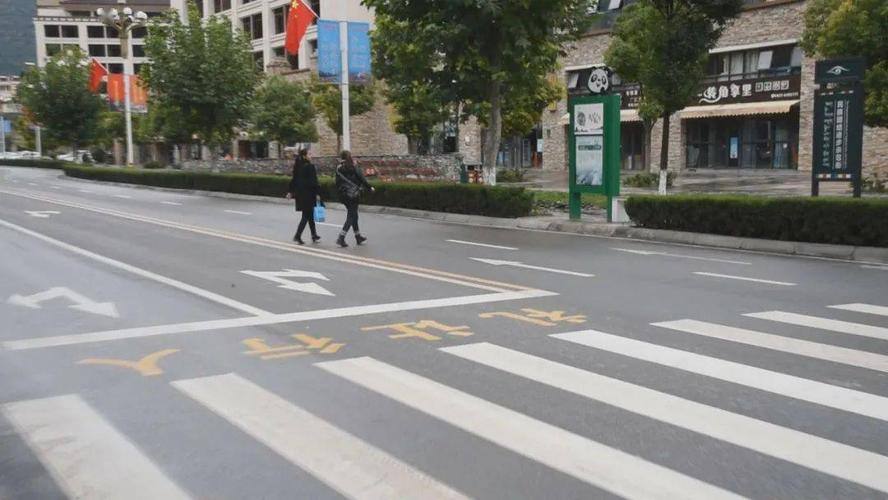person: (284, 146, 327, 246), (331, 150, 374, 246)
